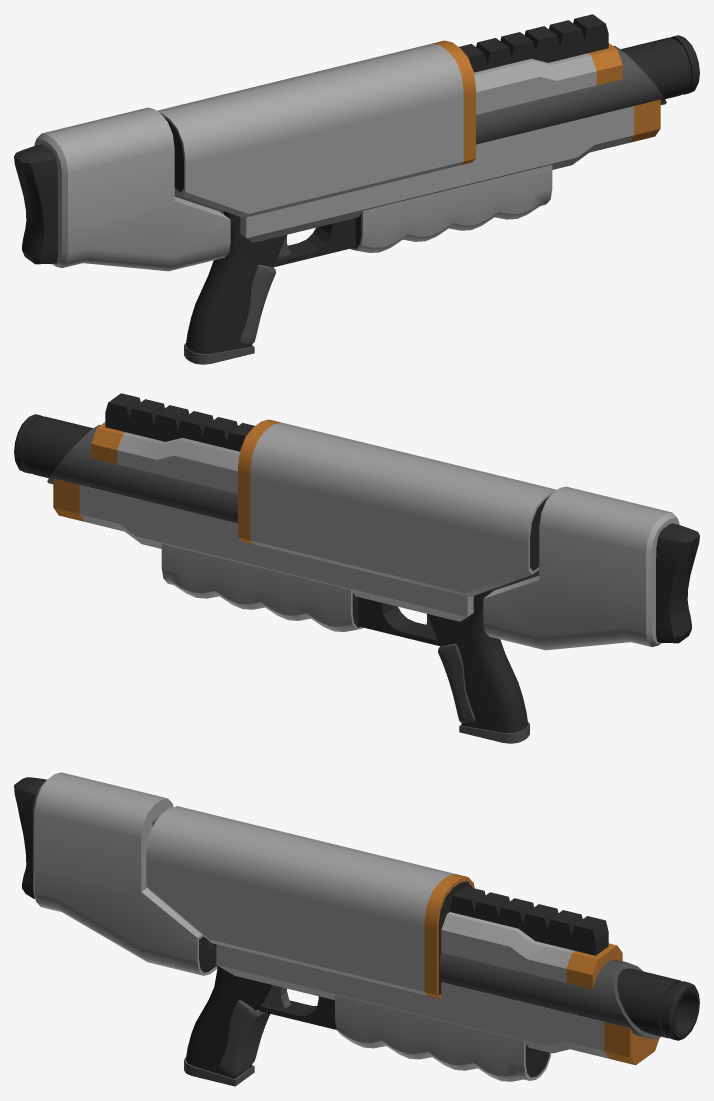
File: Grenade_2.glb
3 renders of one model, top to bottom at view 1: azimuth 30°, elevation 25°; view 2: azimuth 150°, elevation 25°; view 3: azimuth 330°, elevation 25°, orthographic.
Visible parts, largest first — view 1: Grenade_2; view 2: Grenade_2; view 3: Grenade_2.
Part boxes in pixels (bbox=[...]): Grenade_2: bbox=[14, 14, 699, 364]; Grenade_2: bbox=[14, 393, 699, 743]; Grenade_2: bbox=[14, 772, 699, 1086].
Size of the model in its own units: 1.86 by 0.6803 by 0.1876.
